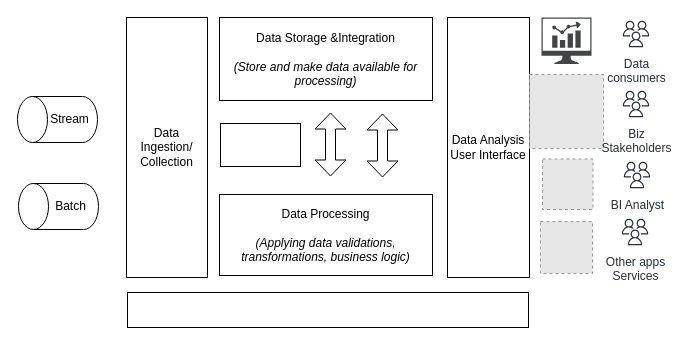
This 688x345 diagram has some shape labels left out. Grey dashed boxes stand in for pictures. The centre of each missing label's shape, as x and y in pixels:
"Data Pipeline" belongs at point (327, 310).
"Metadata Repository" belongs at point (260, 144).
